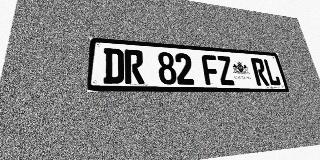2: (174, 53, 194, 85)
8: (157, 51, 177, 84)
D: (103, 48, 124, 84)
F: (201, 55, 221, 85)
L: (263, 59, 282, 86)
R: (124, 49, 145, 84), (250, 58, 270, 86)
Z: (216, 56, 235, 85)
